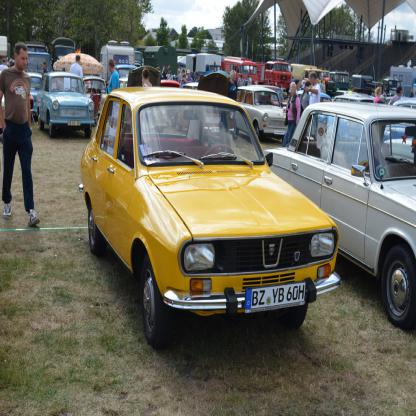Car: (23, 65, 416, 352)
